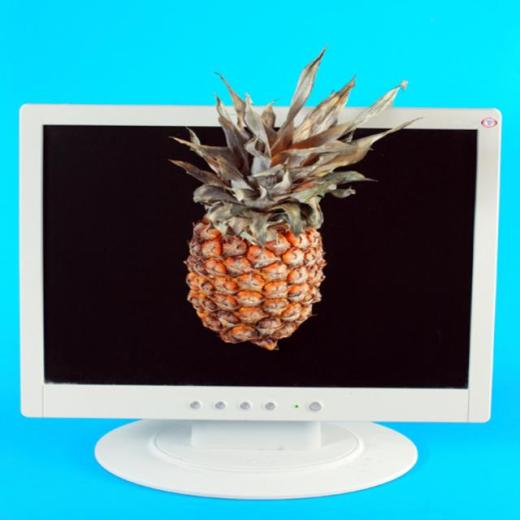Mango: (164, 42, 422, 351)
